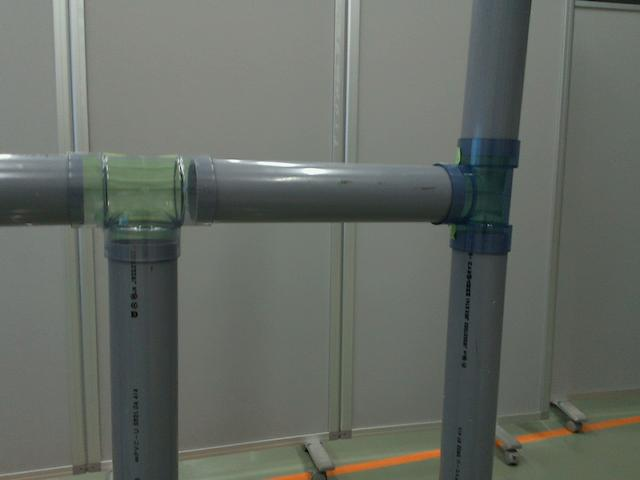junction: (67, 149, 214, 261), (432, 137, 518, 256)
